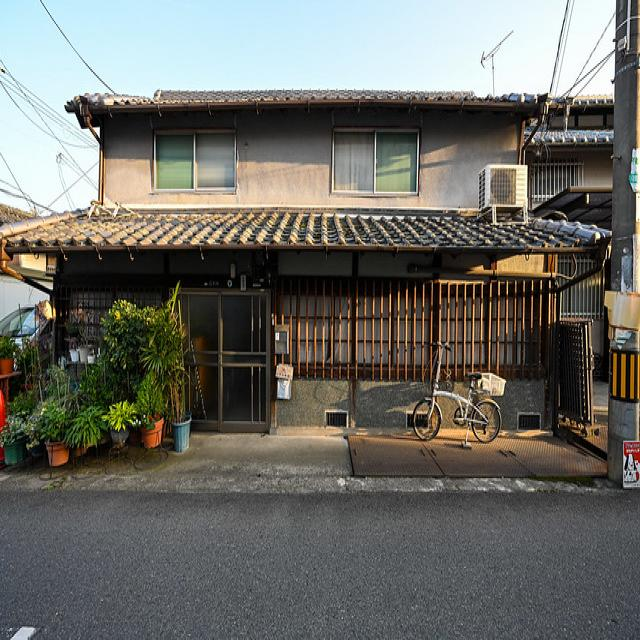Normal_building: (1, 80, 639, 450)
